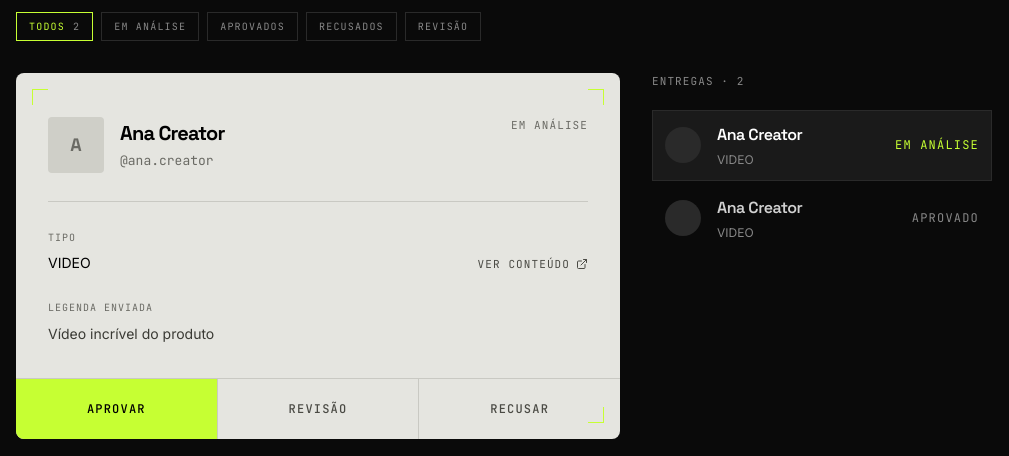
Test: CampaignContentTab › filtra conteúdos por status
The width and height of the screenshot is (1009, 456).
Check: the text "Ana Creator" is shown 2 times, box [717,124,802,144]; [717,196,802,218]
Step 1. Click the button "Aprovados" → click(253, 26), box [207,12,298,41]
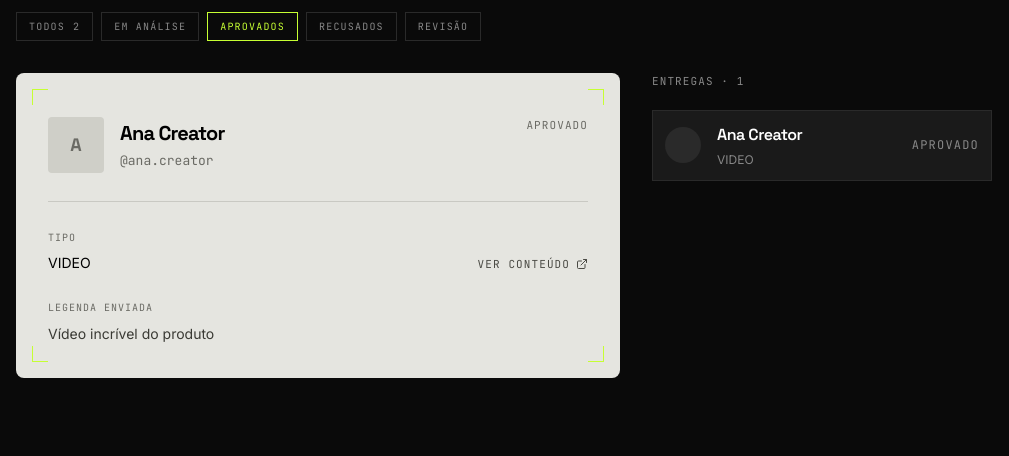
Check: the text "Ana Creator" is shown once, box [717,124,802,144]
